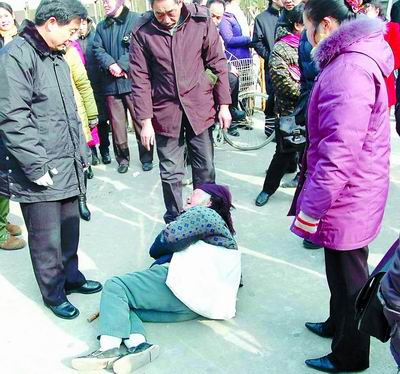10+: (1, 1, 400, 373)
down: (65, 174, 255, 374)
